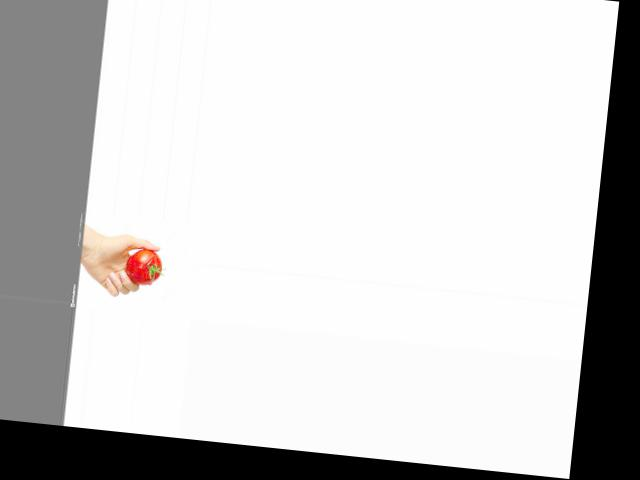tomato: (124, 247, 164, 285)
